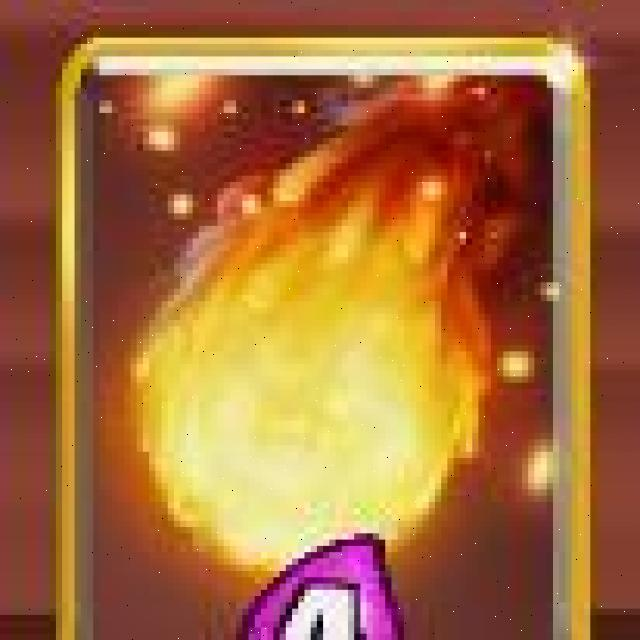Fireball: (51, 36, 592, 640)
